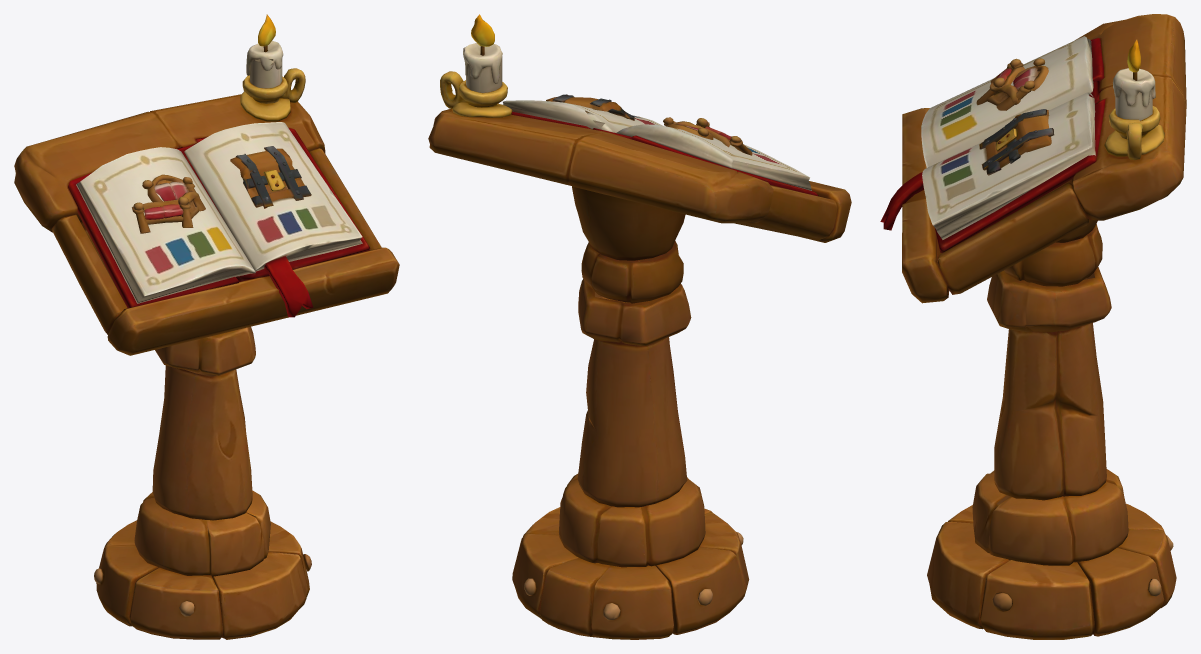
Rendered from pupitre.glb.
3 renders of one model, left to right at view 1: azimuth 30°, elevation 25°; view 2: azimuth 150°, elevation 25°; view 3: azimuth 270°, elevation 25°, orthographic. The views are drawn at different scales.
Visible parts, largest first — view 1: geometry_0; view 2: geometry_0; view 3: geometry_0.
Boxes of the visible parts, x1,y1,x2,y2 form: geometry_0: (14, 14, 399, 639); geometry_0: (428, 14, 851, 639); geometry_0: (880, 14, 1186, 639).
Size of the model in its own units: 0.5283 by 0.9531 by 0.4336.
Materials: 1 (1 with a texture image).
